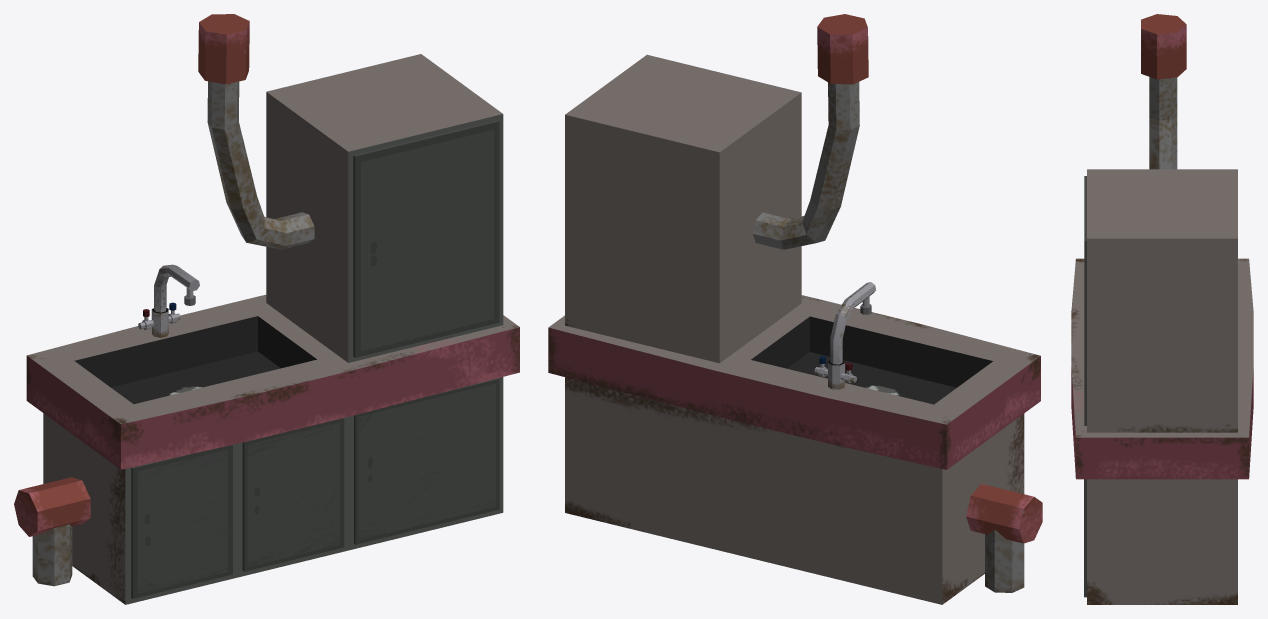
File: Env_Table_Sink.fbx
The picture shows the model from 3 angles, left to right: view 1: azimuth 30°, elevation 25°; view 2: azimuth 150°, elevation 25°; view 3: azimuth 270°, elevation 25°; orthographic projection. The views are drawn at different scales.
Parts seen in each view (by area): view 1: Work_Station.001, Cabinet_Door, Cabinet_Door.001, Cabinet_Door.003, Cabinet_Door.002, Sink; view 2: Work_Station.001, Sink; view 3: Work_Station.001, Cabinet_Door, Cabinet_Door.001.
Part boxes in pixels (x1,y1,x2,y2): Work_Station.001: (14,14,519,604); Cabinet_Door: (353,120,499,357); Cabinet_Door.001: (354,378,499,544); Cabinet_Door.003: (131,445,232,598); Cabinet_Door.002: (242,418,344,571); Sink: (138,264,199,337); Work_Station.001: (548,14,1042,604); Sink: (814,282,875,389); Work_Station.001: (1071,14,1253,604); Cabinet_Door: (1084,176,1086,425); Cabinet_Door.001: (1084,479,1086,597).
Size of the model in its own units: 231 by 258 by 89.93.
